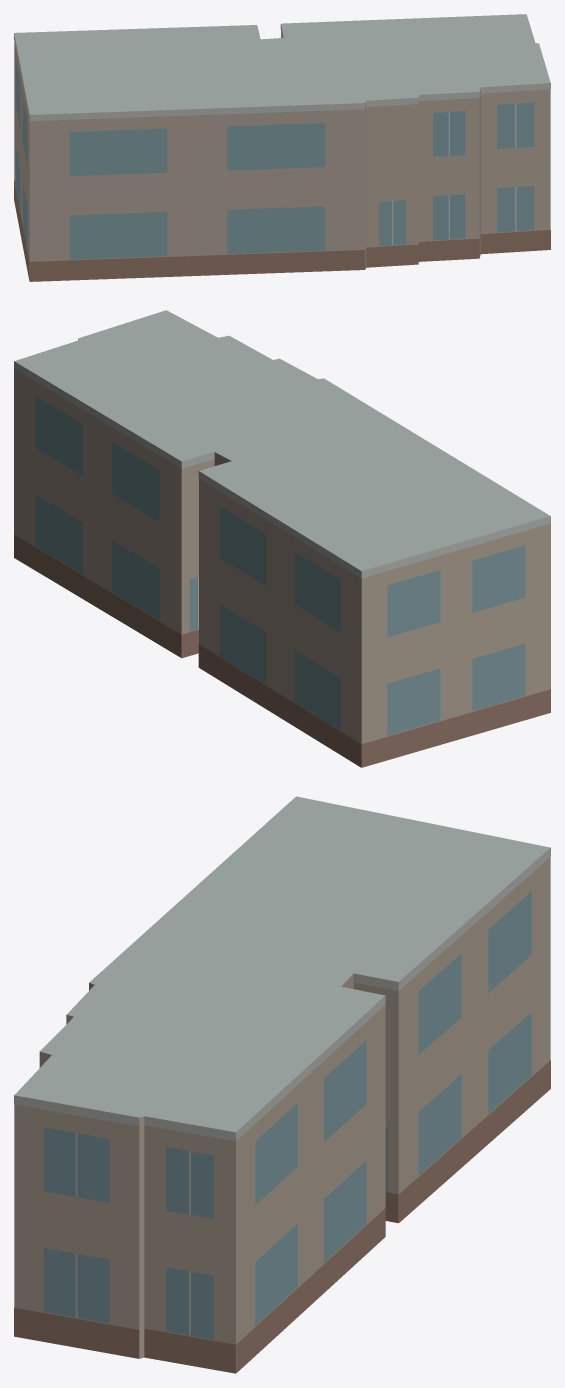
The model's file is survey-upis-32607808.glb.
3 renders of one model, top to bottom at view 1: azimuth 30°, elevation 25°; view 2: azimuth 150°, elevation 25°; view 3: azimuth 270°, elevation 25°, orthographic. The views are drawn at different scales.
Visible parts, largest first — view 1: survey-upis-32607808.tmp; view 2: survey-upis-32607808.tmp; view 3: survey-upis-32607808.tmp.
Boxes of the visible parts, x1,y1,x2,y2 form: survey-upis-32607808.tmp: [14, 14, 550, 281]; survey-upis-32607808.tmp: [14, 310, 550, 767]; survey-upis-32607808.tmp: [14, 796, 550, 1373].
Bounding box in the file's own units: 19.43 × 6.5 × 13.11.
